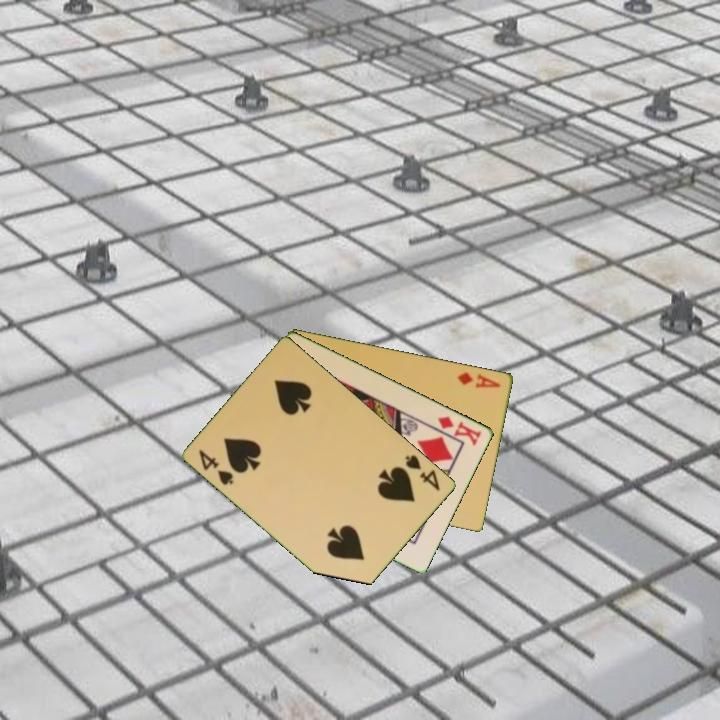4s: (402, 451, 444, 494), (195, 446, 237, 488)
Ad: (454, 368, 504, 391)
Kd: (434, 412, 485, 449)
